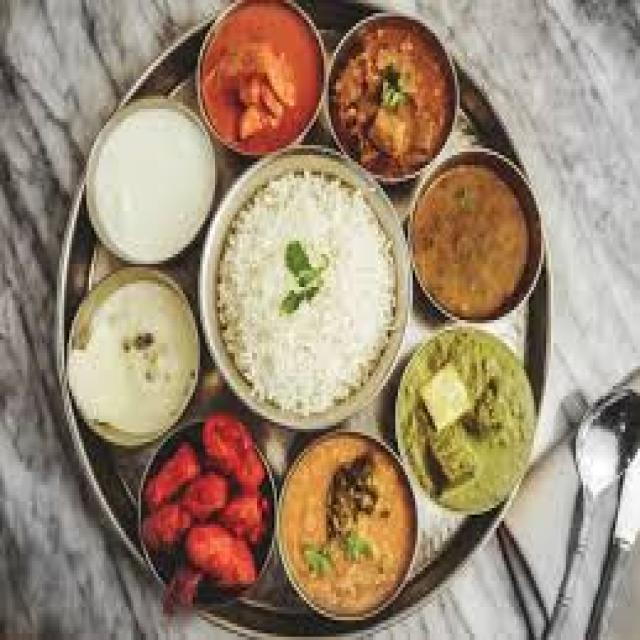curd: (81, 90, 220, 265)
rice: (500, 7, 640, 391)
sweet: (60, 276, 197, 445)
veg-fry: (268, 440, 423, 631), (331, 20, 463, 176)
